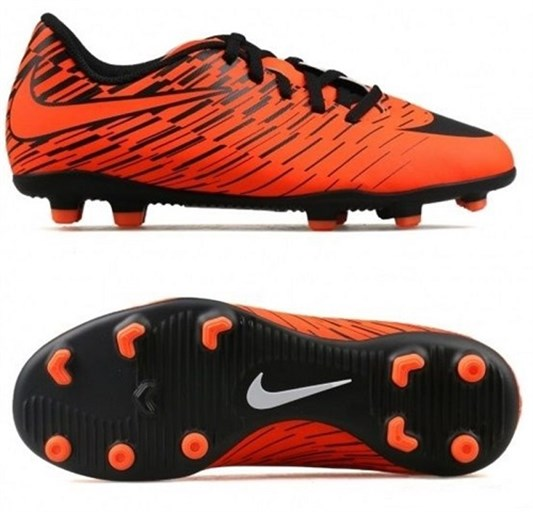nike: (243, 368, 357, 412)
